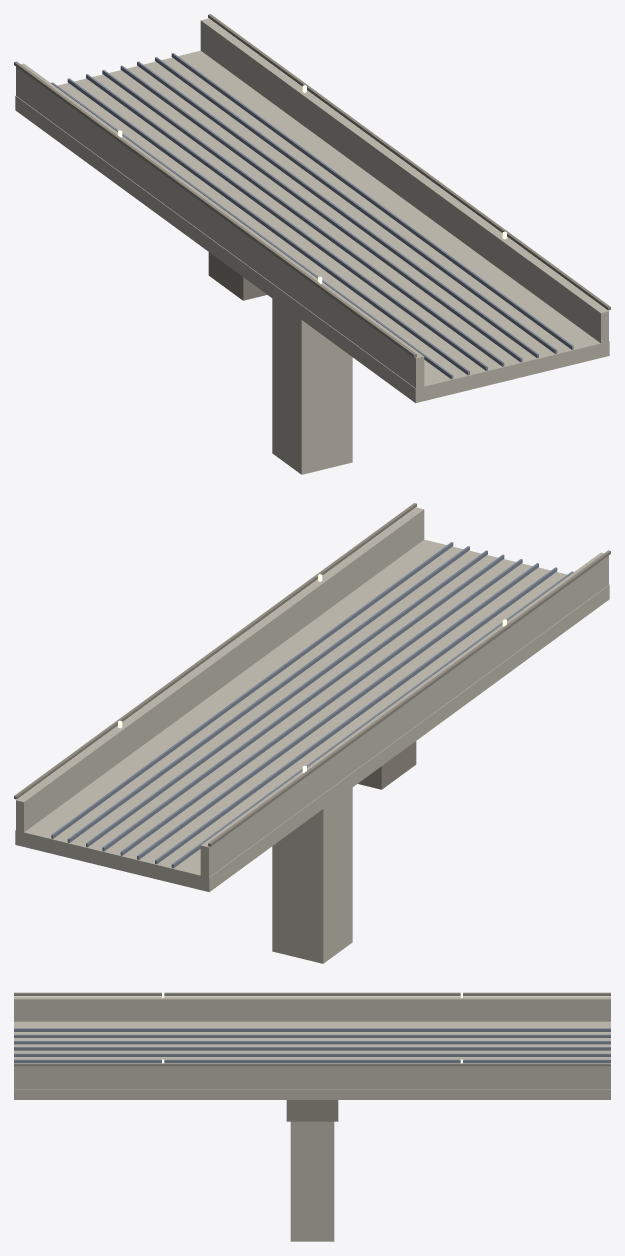
Rendered from metro_viaduct_span.glb.
3 renders of one model, top to bottom at view 1: azimuth 30°, elevation 25°; view 2: azimuth 150°, elevation 25°; view 3: azimuth 270°, elevation 25°, orthographic. The views are drawn at different scales.
Visible parts, largest first — view 1: viaduct; view 2: viaduct; view 3: viaduct.
Boxes of the visible parts, left/top/right/bottom form: viaduct: left=14, top=14, right=610, bottom=474; viaduct: left=14, top=503, right=610, bottom=963; viaduct: left=14, top=992, right=610, bottom=1241.
Bounding box in the file's own units: 8.52 × 11.43 × 30.
